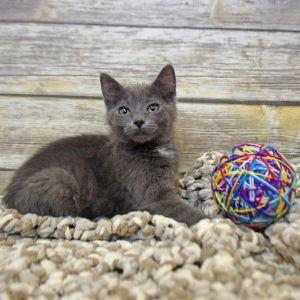rblue: (97, 62, 185, 147)
